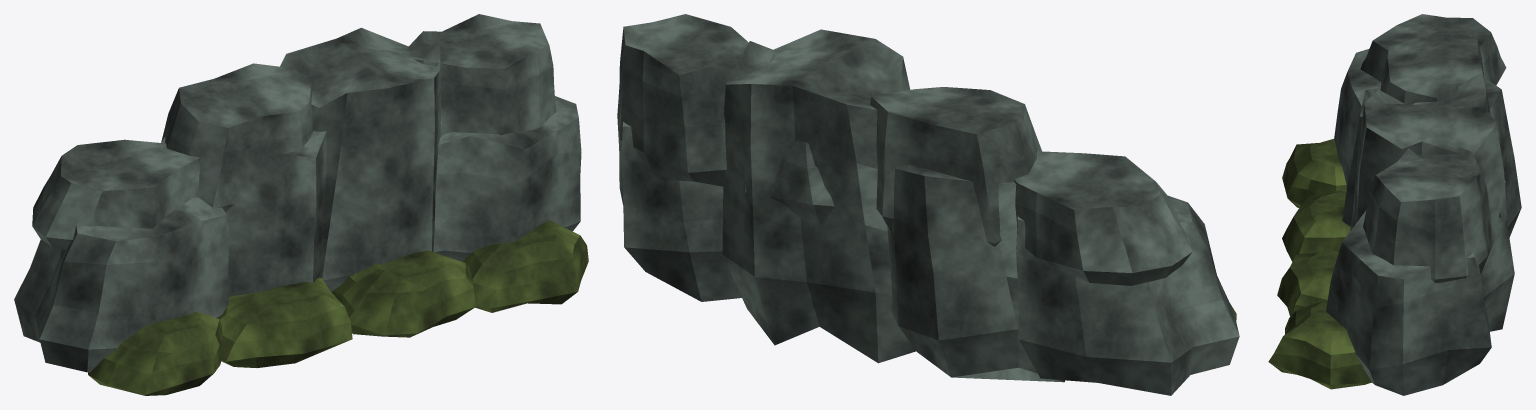
Rendered from cliff1.glb.
3 views of the same model, side by side, from view 1: azimuth 30°, elevation 25°; view 2: azimuth 150°, elevation 25°; view 3: azimuth 270°, elevation 25° (orthographic). The views are drawn at different scales.
Parts seen in each view (by area): view 1: cliff1; view 2: cliff1; view 3: cliff1.
Boxes of the visible parts, x1=… form: cliff1: x1=14, y1=14, x2=588, y2=395; cliff1: x1=617, y1=14, x2=1239, y2=395; cliff1: x1=1268, y1=14, x2=1521, y2=395.
Bounding box in the file's own units: 8.38 × 3.37 × 3.49.
2 materials, 2 textured.
